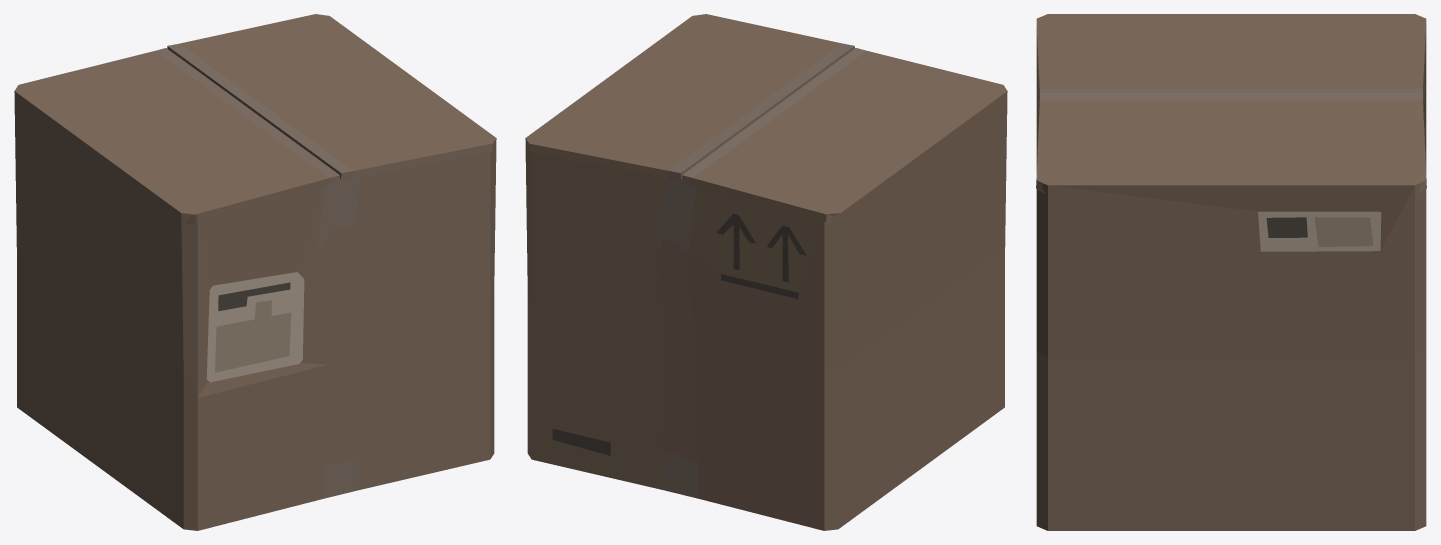
Rendered from Cardboard Box 2.fbx.
The picture shows the model from 3 angles, left to right: view 1: azimuth 30°, elevation 25°; view 2: azimuth 150°, elevation 25°; view 3: azimuth 270°, elevation 25°; orthographic projection. The views are drawn at different scales.
Parts seen in each view (by area): view 1: Cube.166; view 2: Cube.166; view 3: Cube.166.
Part boxes in pixels (x1,y1,x2,y2): Cube.166: (14,14,496,530); Cube.166: (525,14,1007,530); Cube.166: (1036,14,1426,530).
Bounding box in the file's own units: 2092 × 2041 × 2037.
